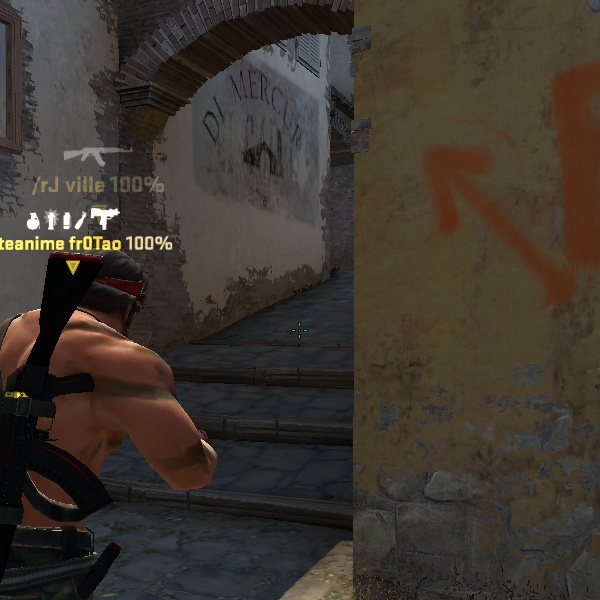t_body: (14, 232, 210, 589)
